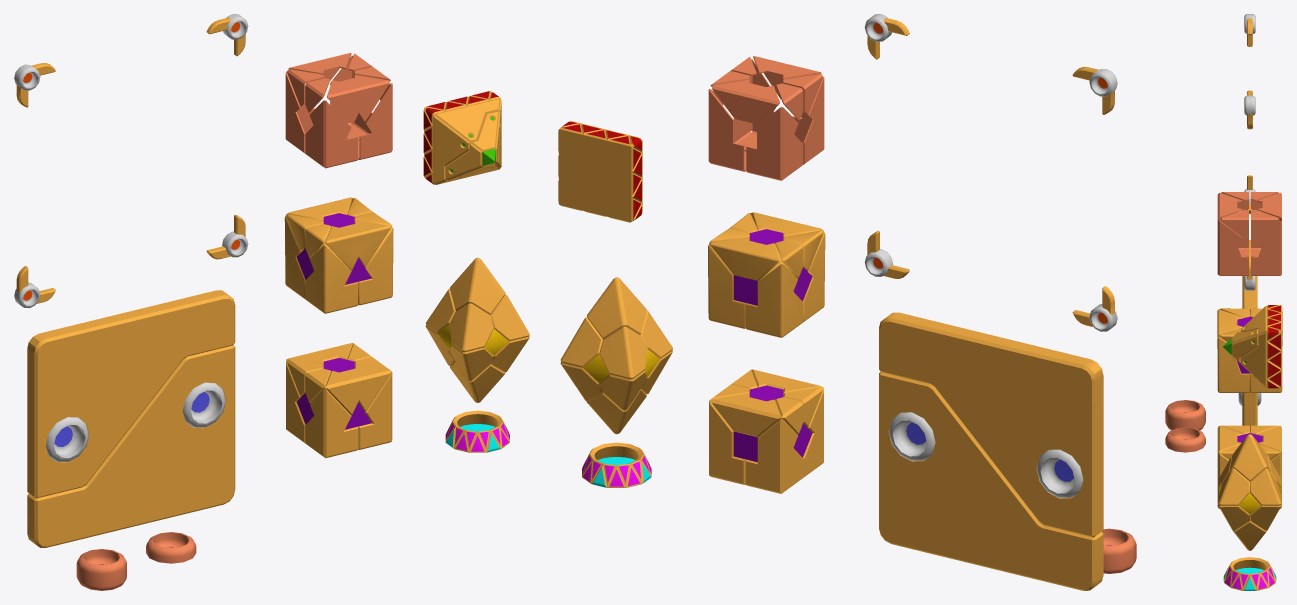
File: PyroSet.fbx
3 views of the same model, side by side, from view 1: azimuth 30°, elevation 25°; view 2: azimuth 150°, elevation 25°; view 3: azimuth 270°, elevation 25° (orthographic). The views are drawn at different scales.
Parts seen in each view (by area): view 1: UpDoor, Gate, PyroboxRounded, PyroBoxEmpty, PyroboxClassic, Pyrogem, Pyrocaster, Basement, EnergyPinTS, EnergyPinFB, PlanarRegiTL, PlanarRegiBL (+2 smaller); view 2: UpDoor, Gate, PyroboxRounded, PyroBoxEmpty, PyroboxClassic, Pyrogem, Pyrocaster, Basement, EnergyPinTS, PlanarRegiTL, PlanarRegiBL, PlanarRegiBR (+1 smaller); view 3: PyroBoxEmpty, Pyrogem, Pyrocaster, PyroboxRounded, PyroboxClassic, Basement, EnergyPinTS, EnergyPinFB, Gate, UpDoor, PlanarRegiTR, PlanarRegiTL (+1 smaller).
Boxes of the visible parts, x1,y1,x2,y2 form: UpDoor: (27,290,235,498); Gate: (27,345,235,547); PyroboxRounded: (284,197,393,313); PyroBoxEmpty: (285,53,392,168); PyroboxClassic: (286,343,392,458); Pyrogem: (425,257,529,402); Pyrocaster: (423,91,501,184); Basement: (445,410,509,452); EnergyPinTS: (76,549,126,590); EnergyPinFB: (146,532,196,563); PlanarRegiTL: (14,63,55,107); PlanarRegiBL: (206,214,248,259); UpDoor: (879,312,1103,537); Gate: (879,372,1103,590); PyroboxRounded: (708,212,825,337); PyroBoxEmpty: (708,56,824,180); PyroboxClassic: (709,369,823,493); Pyrogem: (560,277,672,434); Pyrocaster: (558,121,642,222); Basement: (582,442,651,487); EnergyPinTS: (1102,528,1136,573); PlanarRegiTL: (1072,66,1117,114); PlanarRegiBL: (864,231,909,278); PlanarRegiBR: (1072,286,1117,331); PyroBoxEmpty: (1217,192,1281,275); Pyrogem: (1218,434,1281,550); Pyrocaster: (1232,305,1282,388); PyroboxRounded: (1217,308,1282,392); PyroboxClassic: (1217,425,1281,508); Basement: (1223,557,1276,590); EnergyPinTS: (1165,400,1205,430); EnergyPinFB: (1165,427,1205,452); Gate: (1238,392,1261,425); UpDoor: (1242,240,1257,309); PlanarRegiTR: (1244,90,1255,129); PlanarRegiTL: (1244,14,1255,46).
Bounding box in the file's own units: 716 × 683 × 182.
